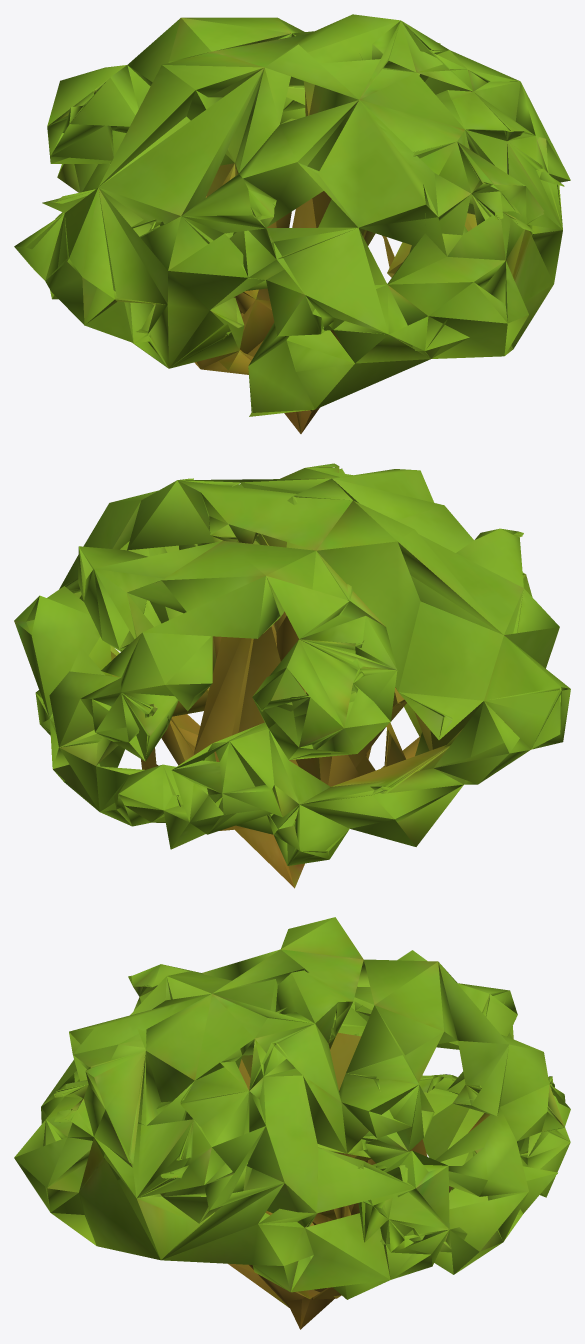
The model's file is m2ForestCanopyBg.glb.
The picture shows the model from 3 angles, top to bottom: view 1: azimuth 30°, elevation 25°; view 2: azimuth 150°, elevation 25°; view 3: azimuth 270°, elevation 25°; orthographic projection. The views are drawn at different scales.
Visible parts, largest first — view 1: model; view 2: model; view 3: model.
Boxes of the visible parts, <box> form: model: <box>14,14,570,433</box>; model: <box>14,463,570,888</box>; model: <box>14,917,570,1329</box>.
Size of the model in its own units: 1.78 by 1.32 by 1.84.
1 material, 1 textured.
